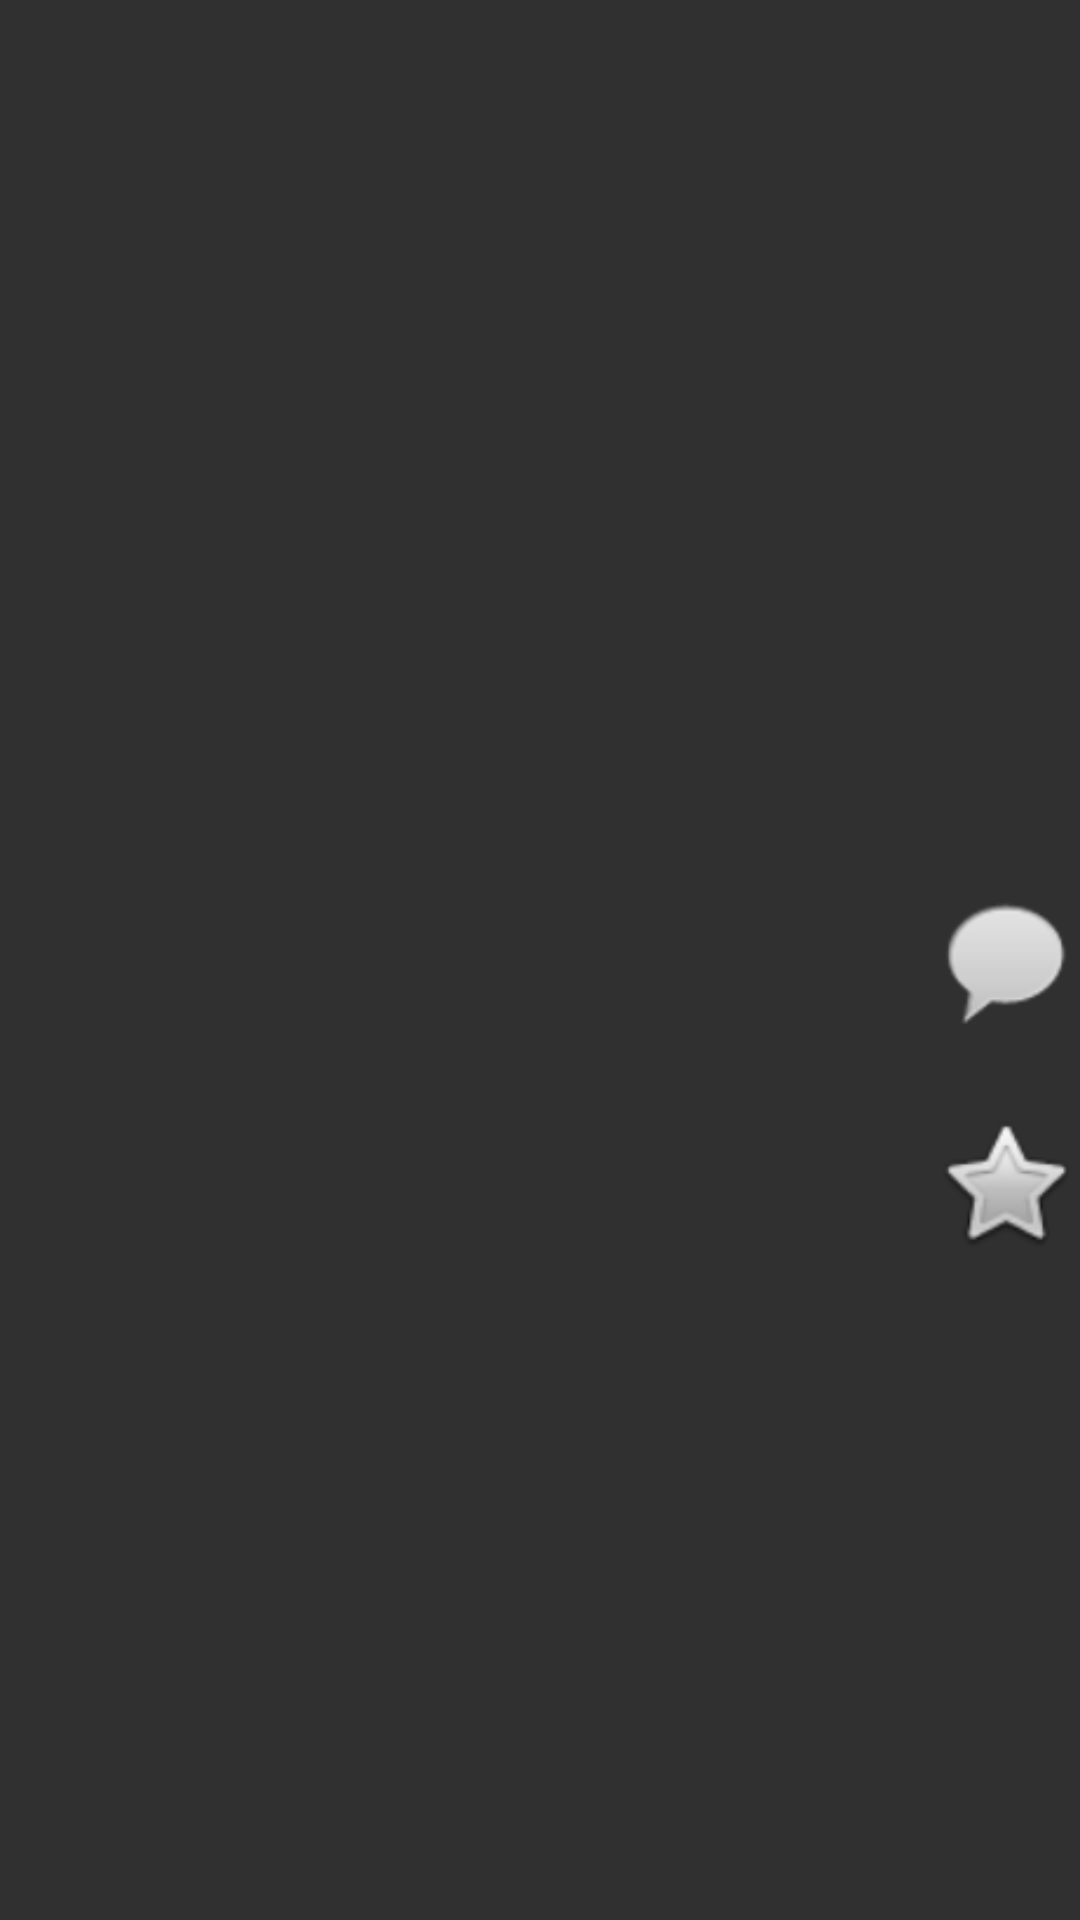

Where icons sit on this 1080 × 1920 app screen, as (x1, y1, x2, y2):
star off: (947, 1126, 1066, 1239)
sym action chat: (948, 905, 1065, 1023)
